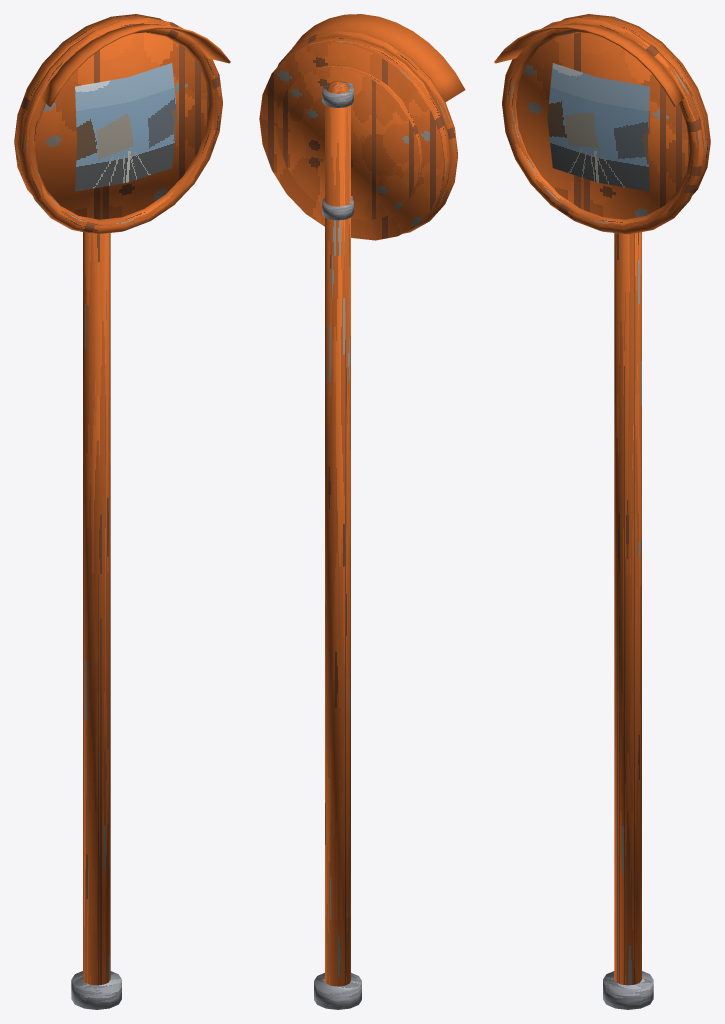
File: mirror_pole.glb
3 views of the same model, side by side, from view 1: azimuth 30°, elevation 25°; view 2: azimuth 150°, elevation 25°; view 3: azimuth 330°, elevation 25° (orthographic). The views are drawn at different scales.
Parts seen in each view (by area): view 1: Cylinder; view 2: Cylinder; view 3: Cylinder.
Boxes of the visible parts, x1,y1,x2,y2 form: Cylinder: (14,14,230,1009); Cylinder: (259,14,465,1009); Cylinder: (494,14,710,1009).
Size of the model in its own units: 0.644 by 3.06 by 0.31.
3 materials, 3 textured.
